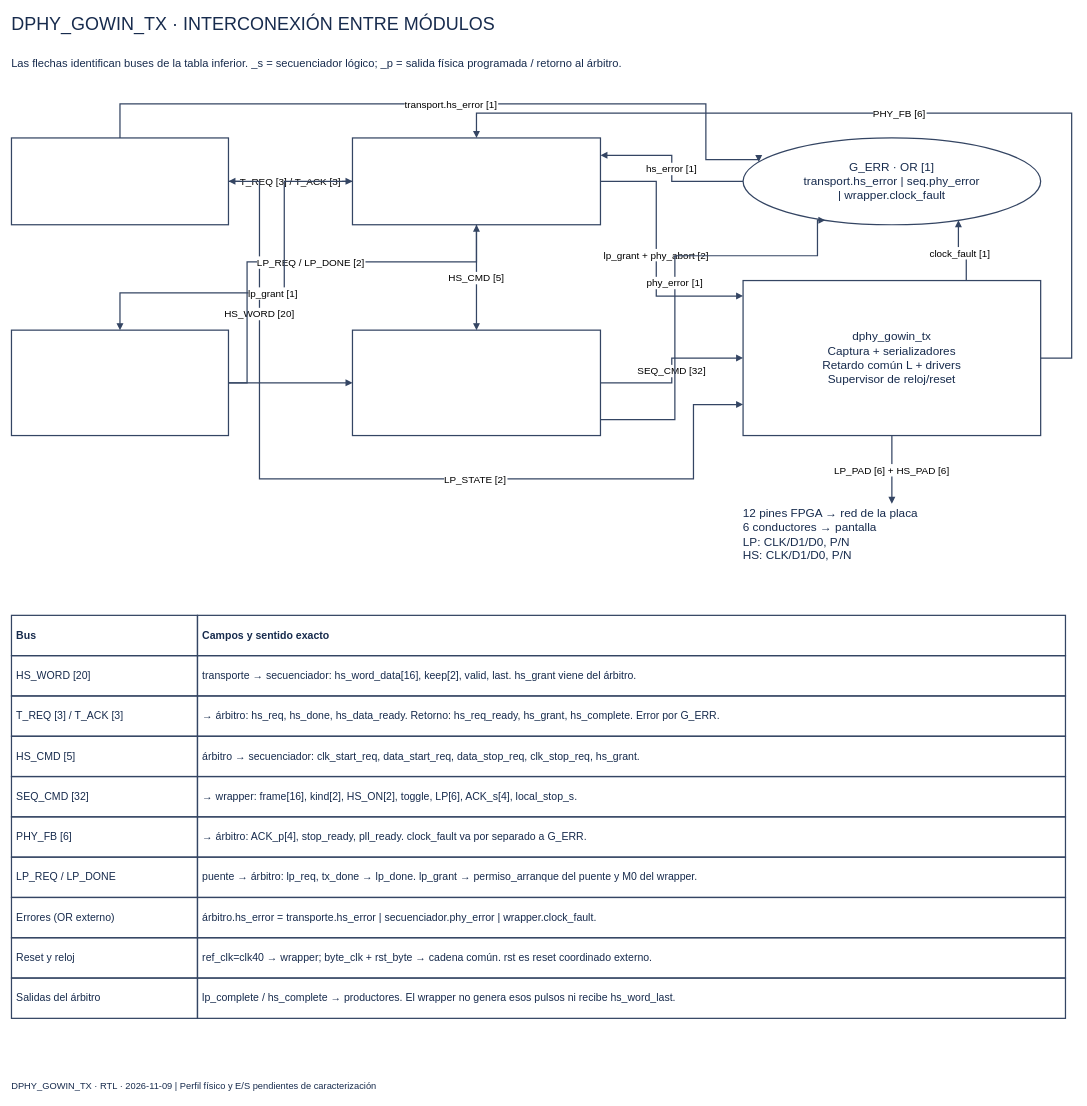
The diagram is 1087 pixels wide and 1106 high, and some of its shapes have lost their labels. The shapes that lost their labels are listed below. From the top down, each one's box as (x1, y1, x2, y2) in pixels, then its label:
(11, 137, 229, 225): dsi_hs_transport Paquete completo → palabras HS
(352, 137, 601, 225): dphy_mode_ctrl Único árbitro LP / HS
(11, 329, 229, 436): dsi_lpdt_bridge Incluye dphy_lpdt_tx LP_STATE = estado_D0
(352, 329, 601, 436): dphy_hs_tx Secuenciador lógico existente Genera fases, tramas y Trail
